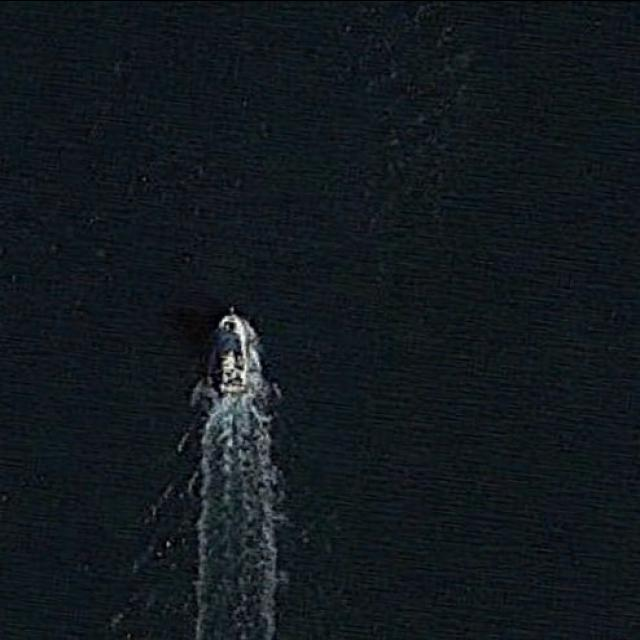ship: (211, 308, 253, 398)
